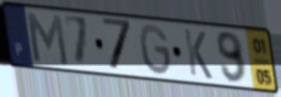7: (100, 16, 134, 75), (61, 13, 91, 69)
9: (215, 30, 250, 86)
G: (138, 22, 174, 78)
K: (182, 27, 215, 82)
M: (23, 10, 71, 69)
